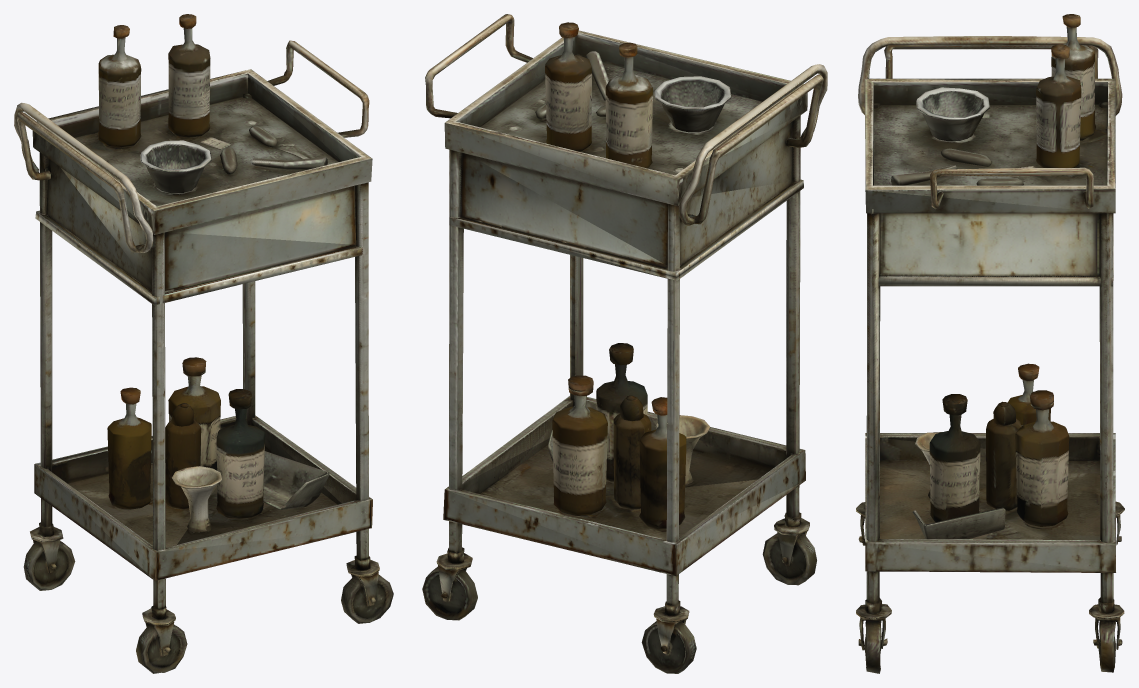
Rendered from medicine‑cart.fbx.
3 renders of one model, left to right at view 1: azimuth 30°, elevation 25°; view 2: azimuth 150°, elevation 25°; view 3: azimuth 270°, elevation 25°, orthographic. The views are drawn at different scales.
Visible parts, largest first — view 1: mesh_node; view 2: mesh_node; view 3: mesh_node.
Part boxes in pixels (bbox=[...]): mesh_node: bbox=[14, 14, 393, 673]; mesh_node: bbox=[422, 14, 827, 673]; mesh_node: bbox=[856, 14, 1124, 673].
Bounding box in the file's own units: 51.76 × 100 × 42.29.
Materials: 1 (1 with a texture image).
